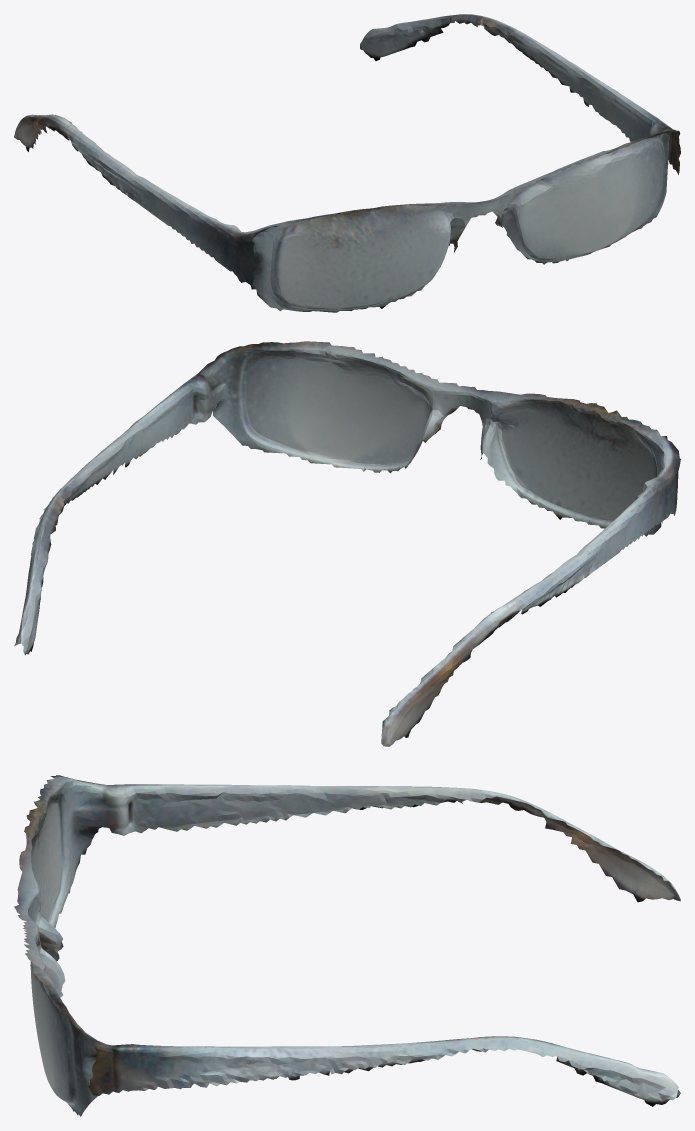
Rendered from scan_align.obj.
The picture shows the model from 3 angles, top to bottom: view 1: azimuth 30°, elevation 25°; view 2: azimuth 150°, elevation 25°; view 3: azimuth 270°, elevation 25°; orthographic projection. The views are drawn at different scales.
Size of the model in its own units: 0.1424 by 0.033 by 0.1499.
Materials: 1 (1 with a texture image).
